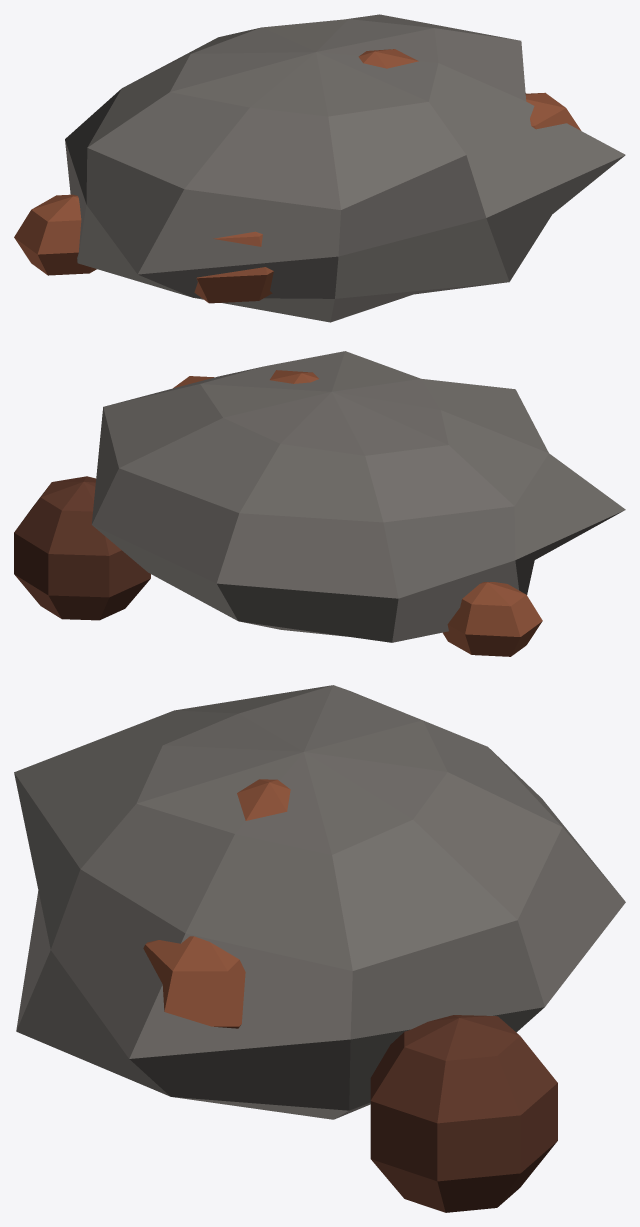
The model's file is ore_rock_3.glb.
3 views of the same model, one above another, from view 1: azimuth 30°, elevation 25°; view 2: azimuth 150°, elevation 25°; view 3: azimuth 270°, elevation 25° (orthographic). The views are drawn at different scales.
Parts seen in each view (by area): view 1: ore_rock_3; view 2: ore_rock_3; view 3: ore_rock_3.
Part boxes in pixels (x1,y1,x2,y2): ore_rock_3: (14, 14, 625, 322); ore_rock_3: (14, 351, 625, 656); ore_rock_3: (14, 685, 625, 1212).
Size of the model in its own units: 2.29 by 1.03 by 1.77.
